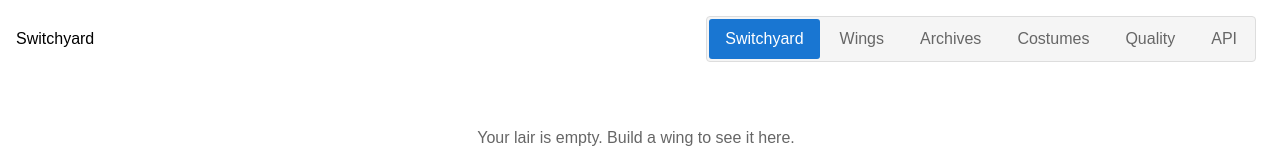
Scenario: LairOverview › switches to Quality view when Quality tab clicked
Click the button "Quality" at x=1150, y=39, box [1109, 19, 1191, 59]
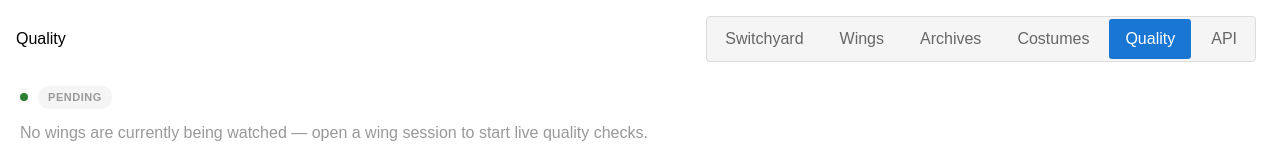
Expected: the heading "Quality" is shown, [16, 27, 66, 51]
Expected: the element that starts with "PENDING" is shown, [20, 86, 648, 140]
